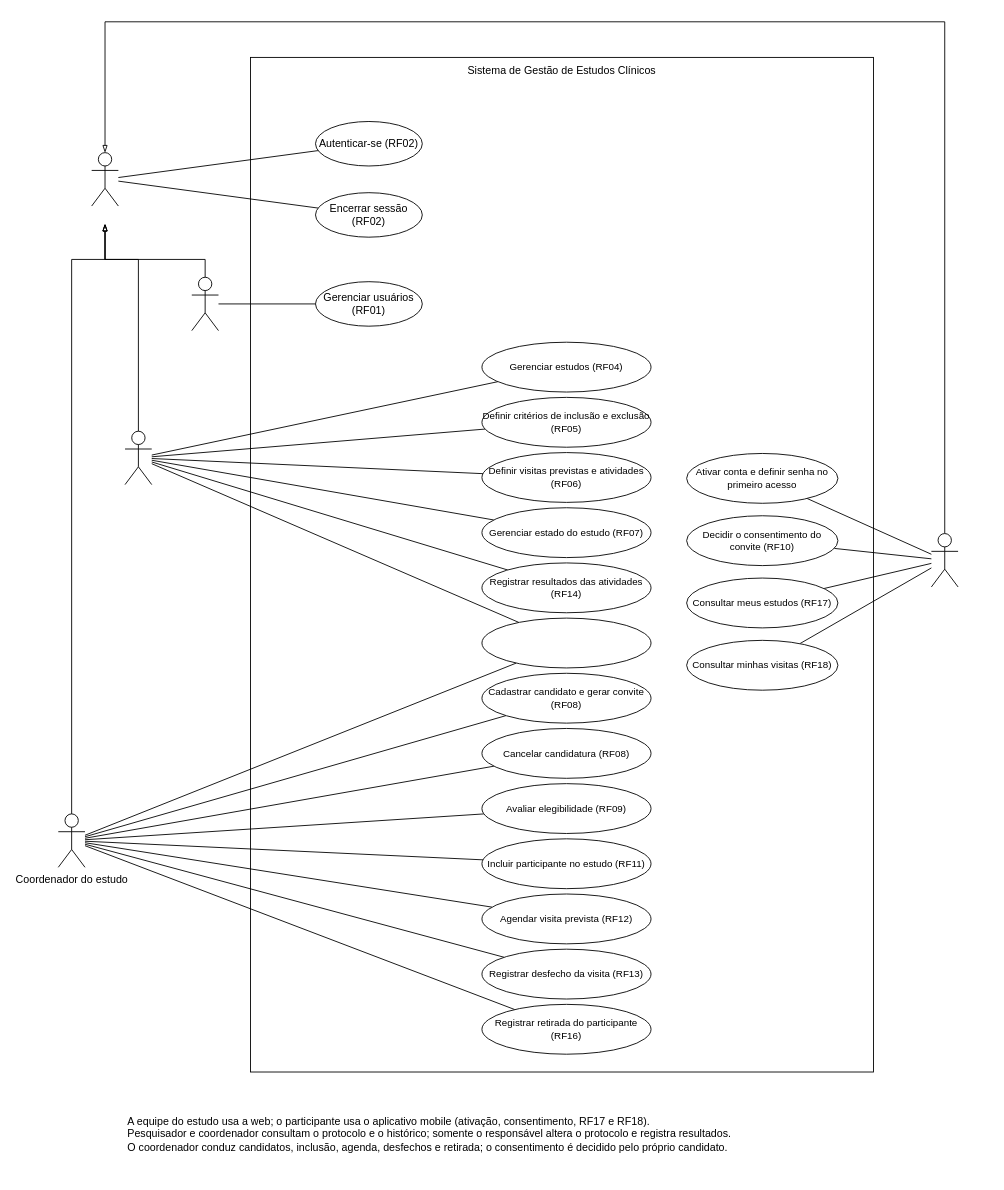
This 1004x1190 diagram has some shape labels left out. Here are the shapes that lost their labels. From the top down, the centre of each, then its label:
the point at 104,179: Usuário
the point at 204,303: Administrador
the point at 138,457: Pesquisador (responsável nas alterações)
the point at 944,560: Participante (candidato no app)
the point at 566,642: Consultar histórico do participante (RF15)
